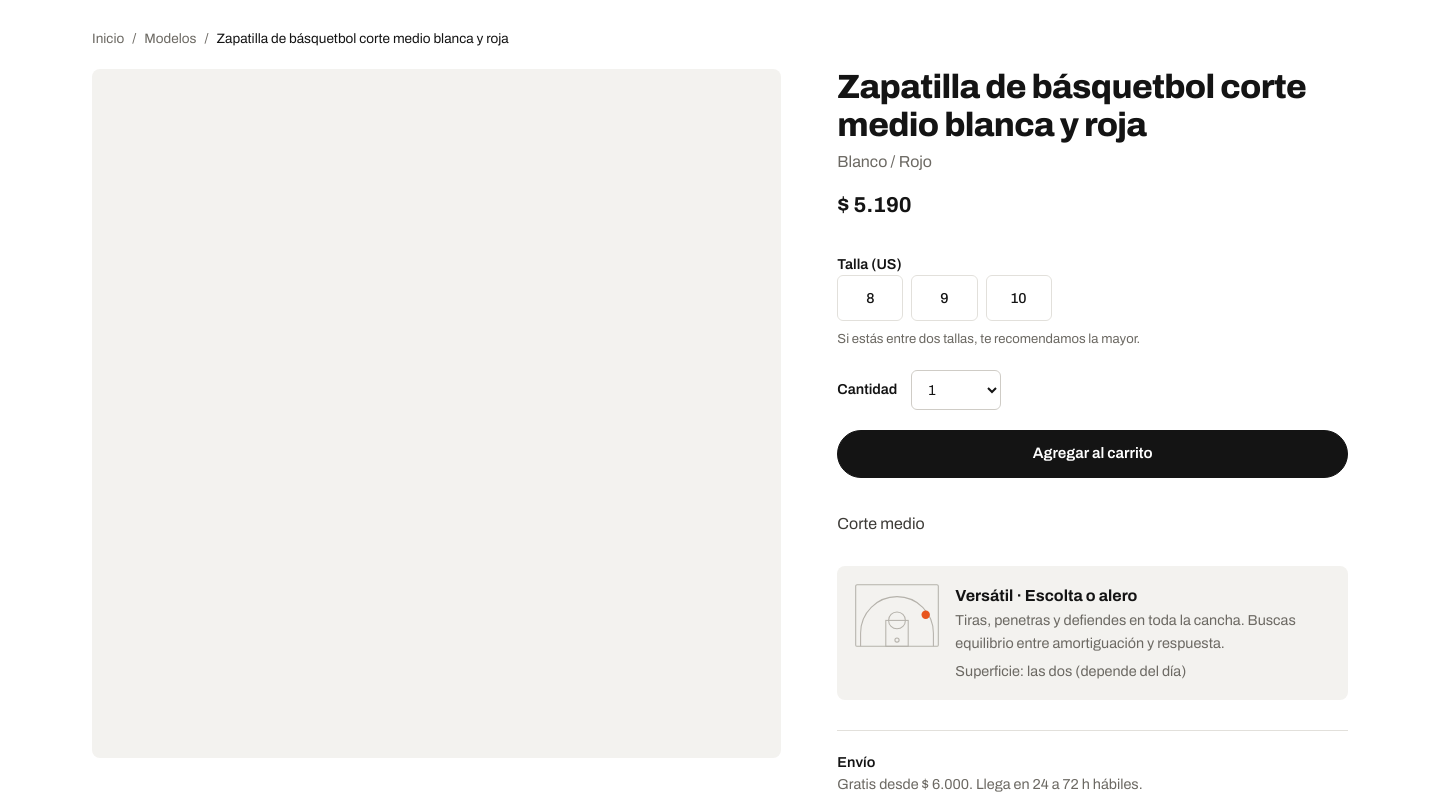
ficha de producto › muestra el error de stock que devuelve el backend
Click the radio button labelled "9". click: {"x": 944, "y": 298}
box: [911, 275, 978, 321]
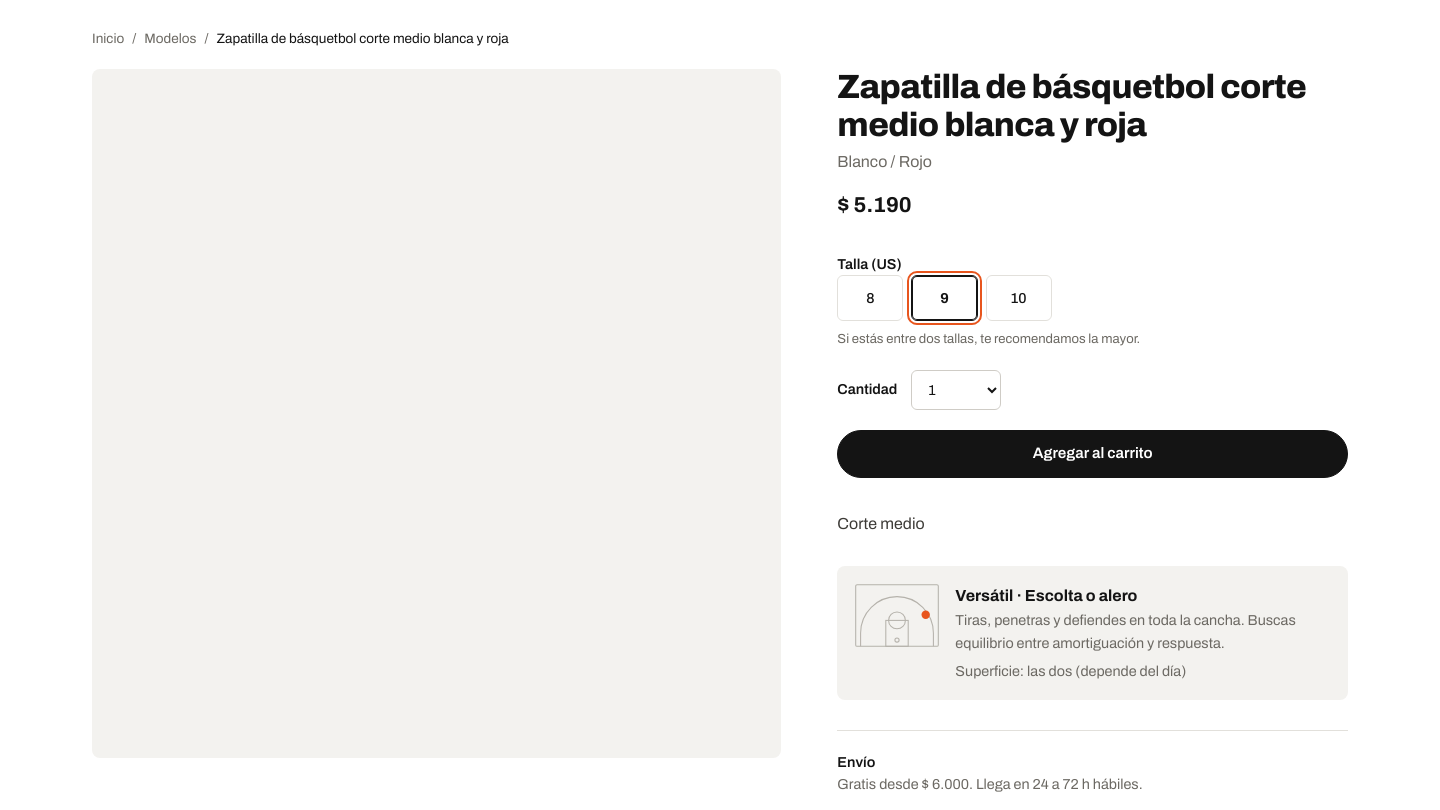
Click the button "Agregar al carrito". click: {"x": 1093, "y": 454}
box: [837, 430, 1348, 478]
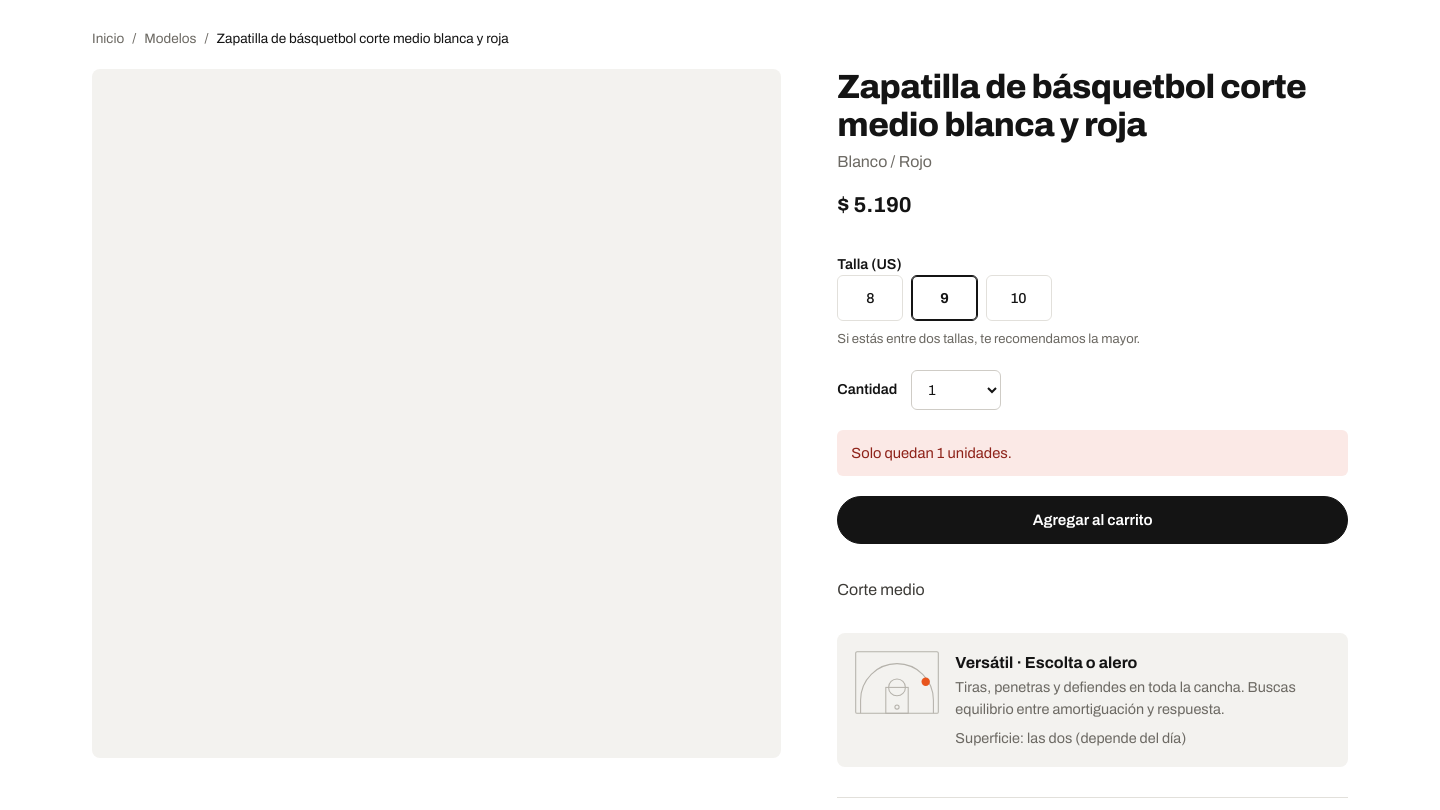
Expected: the message reads "Solo quedan 1 unidades.", [851, 445, 1012, 461]
